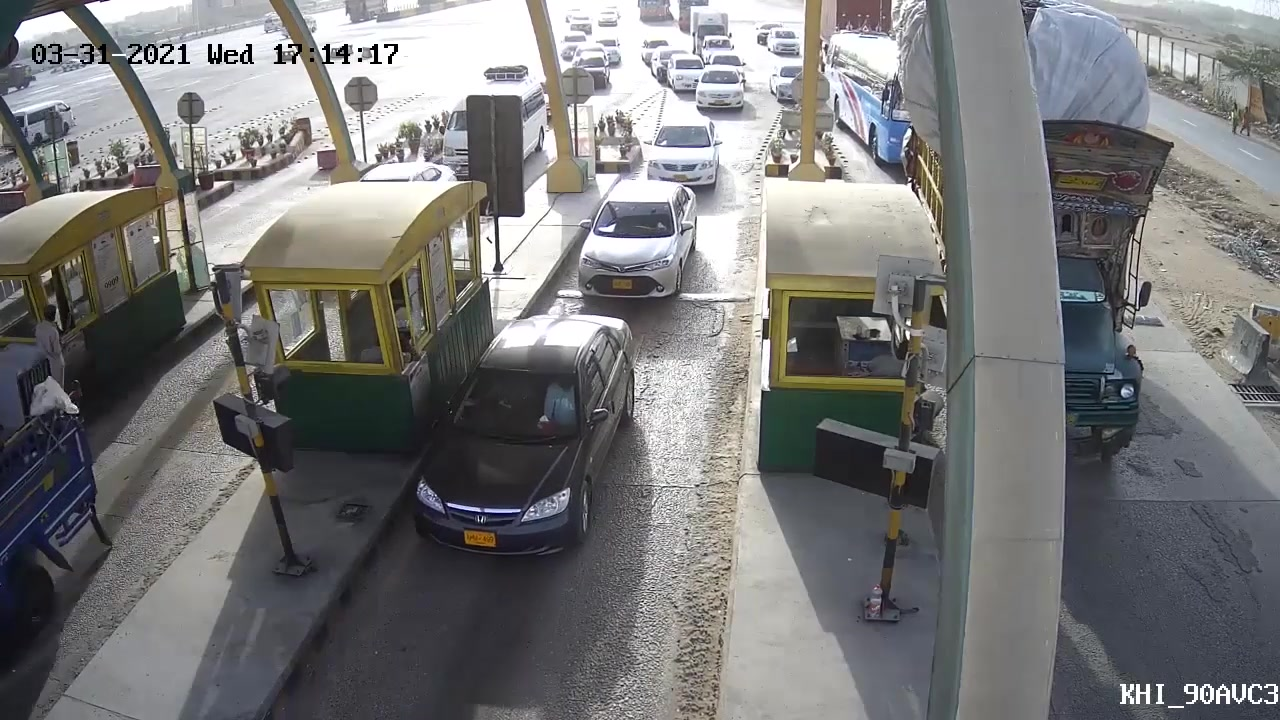F1: (398, 309, 638, 557), (570, 174, 701, 300)
